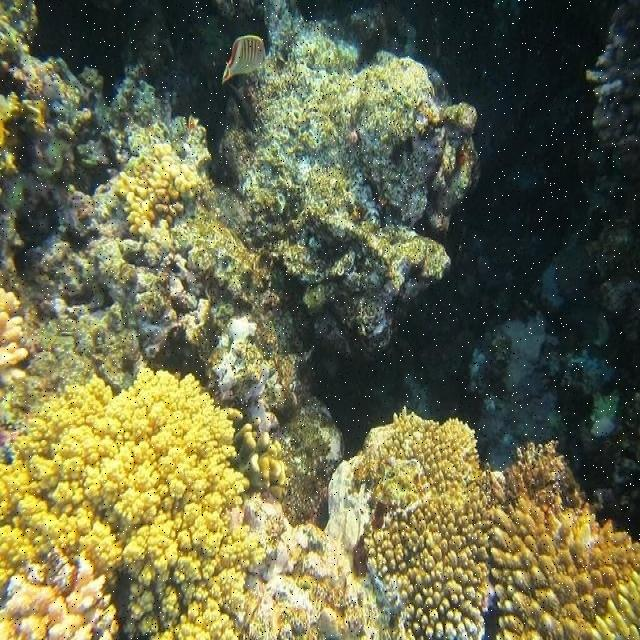fish: (220, 35, 266, 87)
